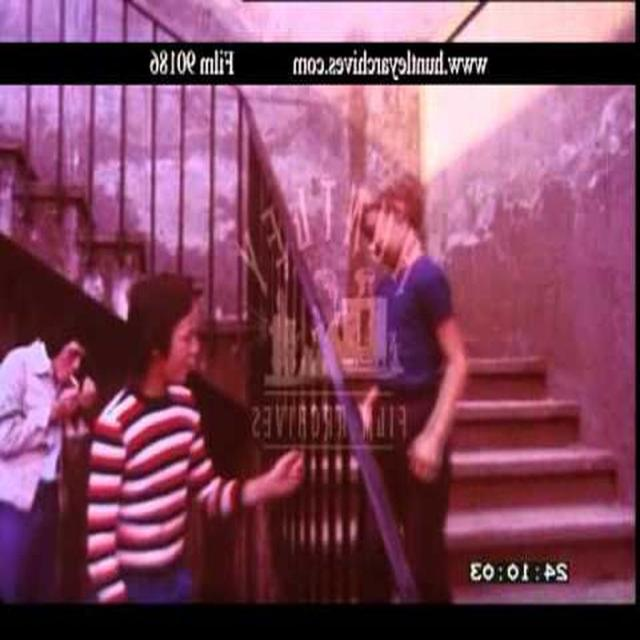smoking: (22, 294, 99, 438)
